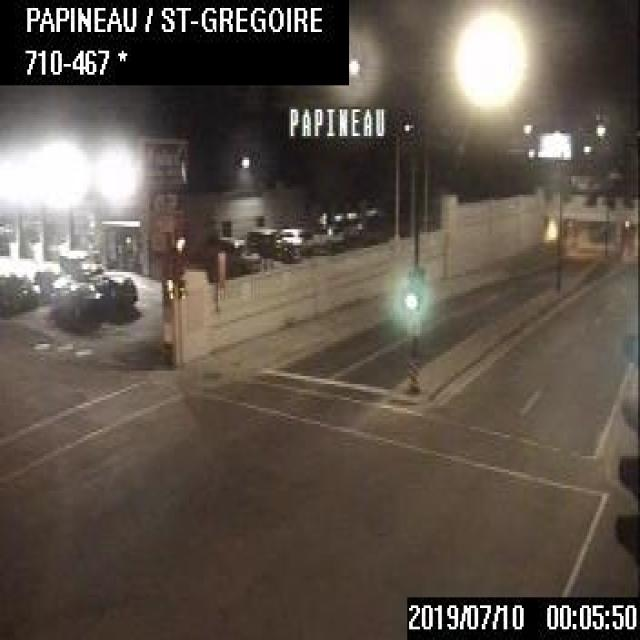vehicle: (49, 277, 102, 333), (204, 232, 265, 278), (92, 268, 138, 318), (0, 268, 36, 308), (59, 247, 100, 278), (280, 223, 309, 252)
